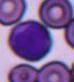L: (8, 20, 52, 61)
